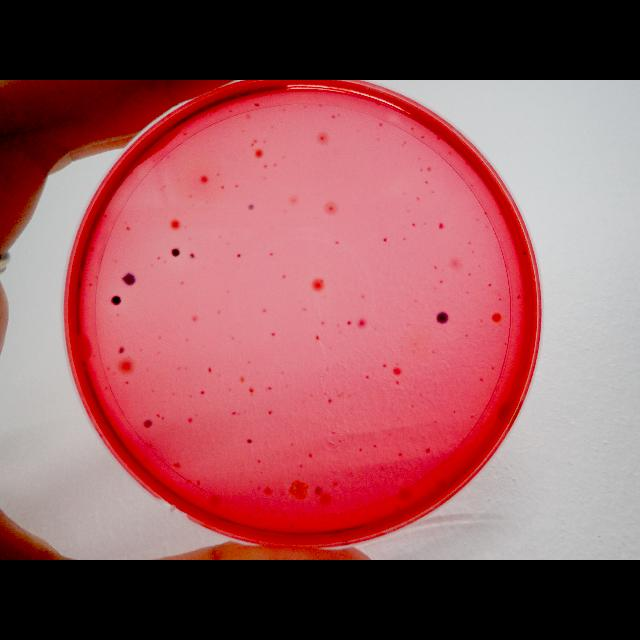colony: (121, 270, 137, 288), (434, 309, 448, 327), (109, 292, 123, 308), (170, 246, 180, 258), (142, 418, 152, 430), (116, 344, 125, 354), (245, 437, 253, 448), (246, 201, 254, 211), (188, 252, 196, 260), (236, 252, 242, 260)
